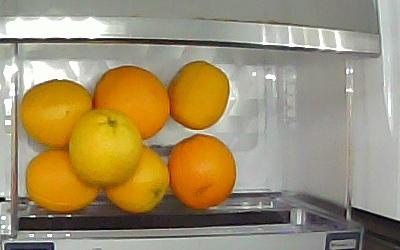orange: (93, 64, 169, 142), (69, 110, 141, 185), (20, 79, 93, 150), (169, 133, 236, 209), (27, 148, 99, 211), (168, 61, 230, 130), (108, 145, 170, 213)
